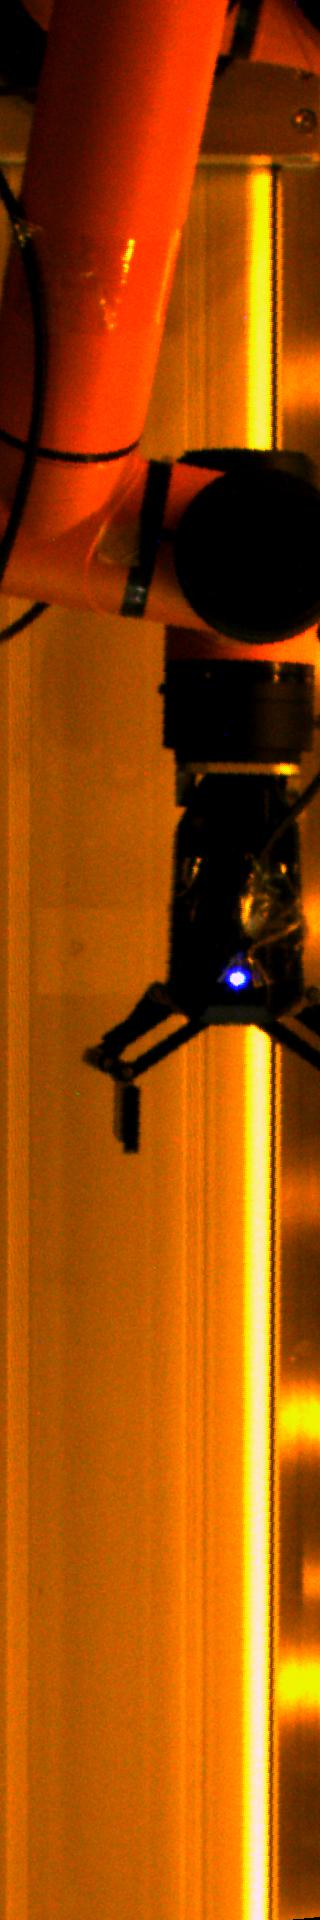keyPoint_1: (223, 962, 253, 992)
